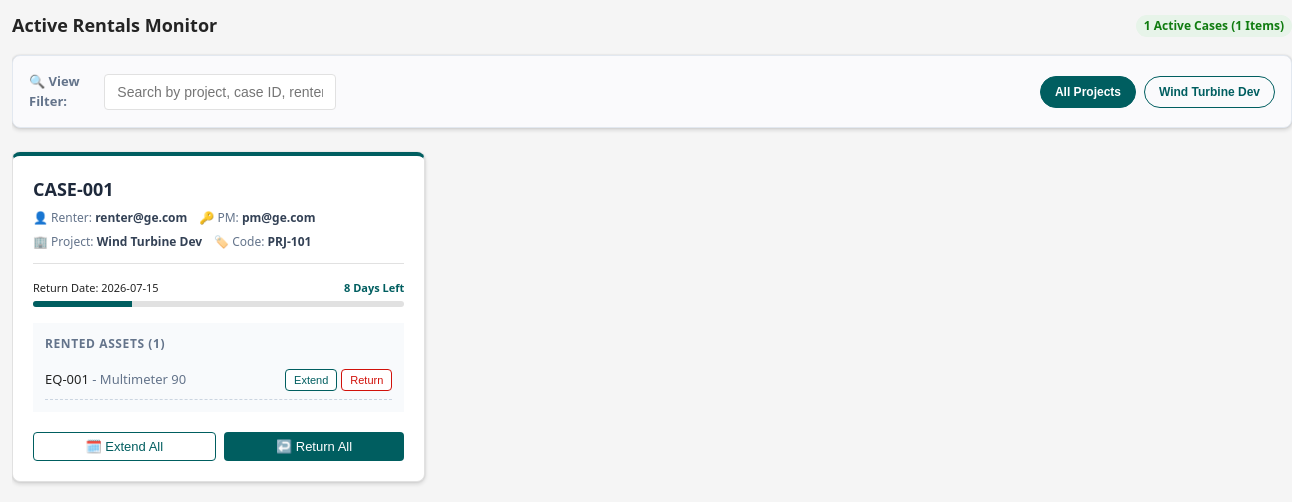
Test: ActiveRentals Component › filters rentals when searching
In the field with placeholder "Search by project, case ID, renter...": [220, 92] box [104,74,336,110], type "Nonexistent"
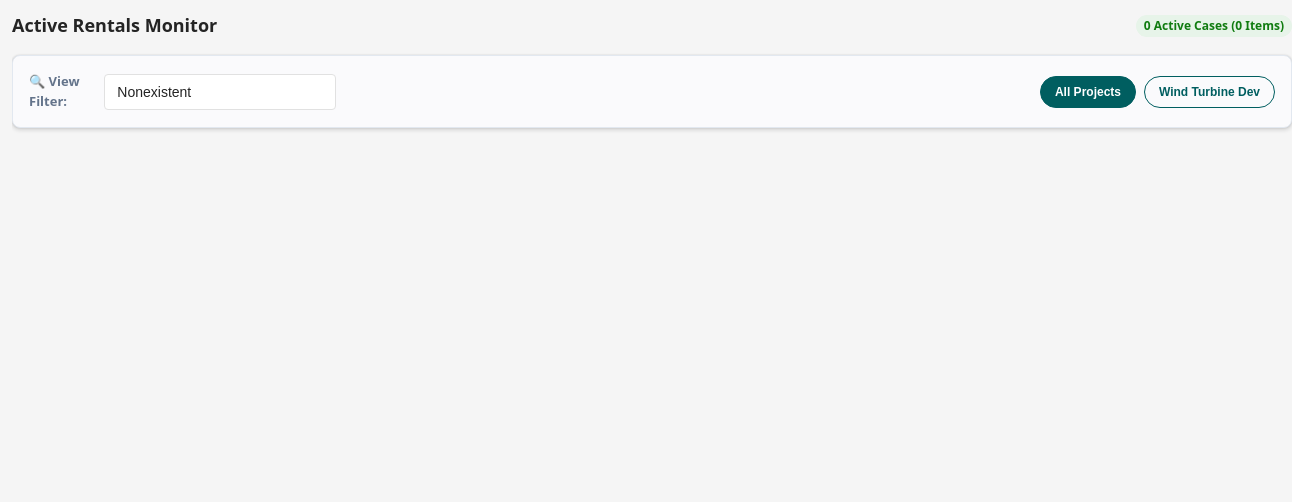
Expected: the heading "CASE-001" is gone
